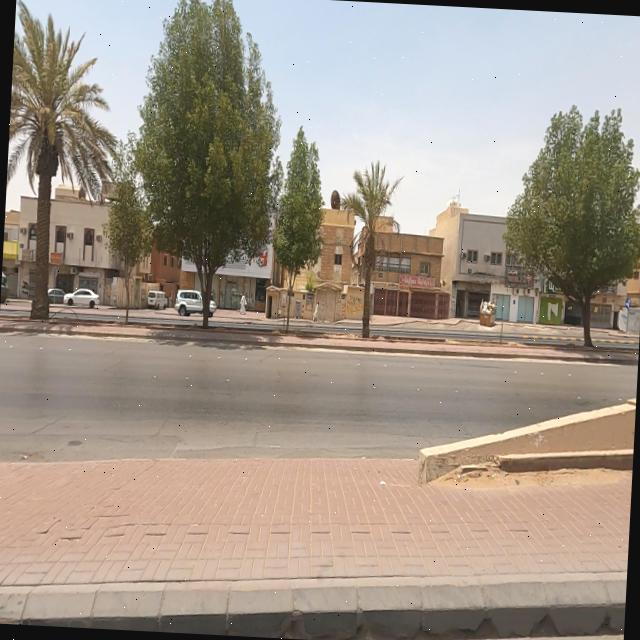Graffiti: (347, 295, 365, 316), (342, 303, 347, 319)
